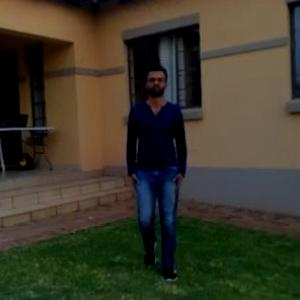follow: (125, 58, 188, 246)
